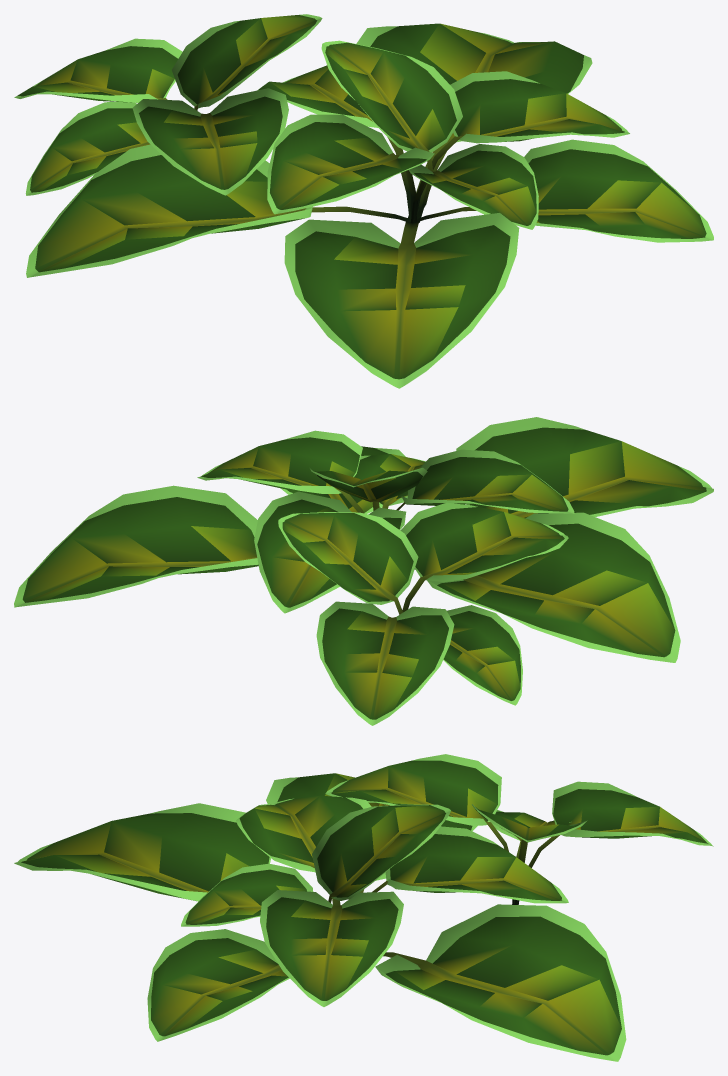
The model's file is Hosta_LG_02.fbx.
3 views of the same model, one above another, from view 1: azimuth 30°, elevation 25°; view 2: azimuth 150°, elevation 25°; view 3: azimuth 270°, elevation 25° (orthographic). The views are drawn at different scales.
Visible parts, largest first — view 1: Hosta_LG_02; view 2: Hosta_LG_02; view 3: Hosta_LG_02.
Part boxes in pixels (x1,y1,x2,y2): Hosta_LG_02: (14,14,713,388); Hosta_LG_02: (14,417,713,725); Hosta_LG_02: (14,754,713,1061).
Bounding box in the file's own units: 102 × 23.2 × 109.
